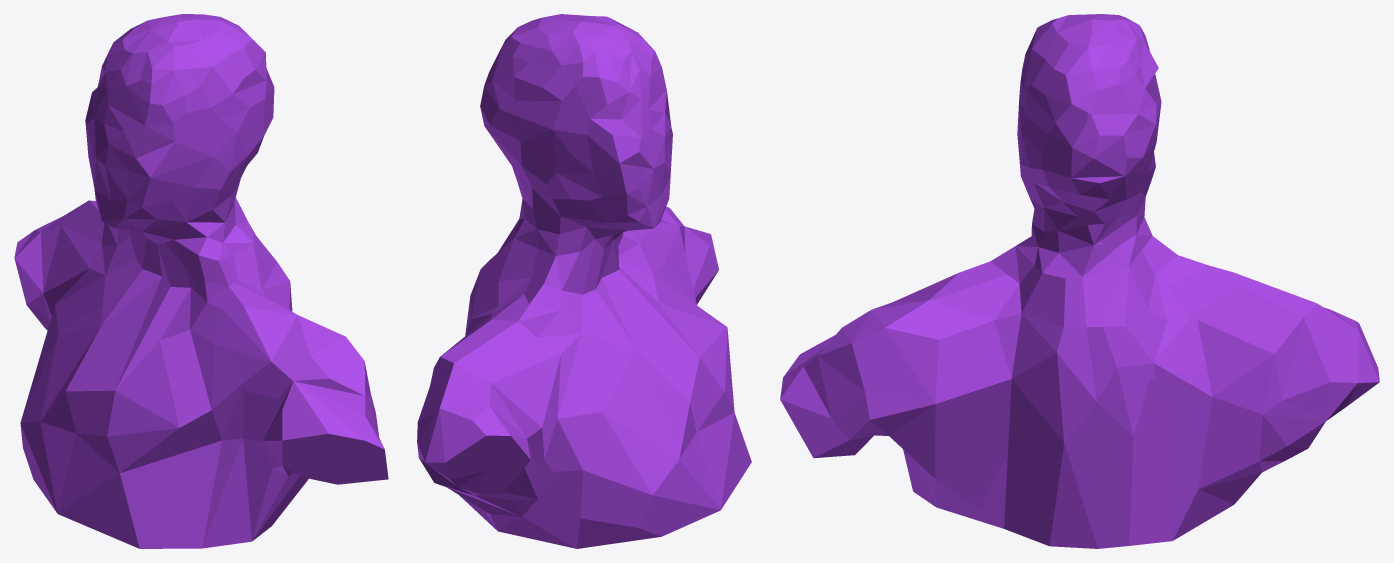
Rendered from Statue_chunks.fbx.
The picture shows the model from 3 angles, left to right: view 1: azimuth 30°, elevation 25°; view 2: azimuth 150°, elevation 25°; view 3: azimuth 270°, elevation 25°; orthographic projection. The views are drawn at different scales.
Visible parts, largest first — view 1: Statue_0, Statue_1, Statue_5, Statue_2, Statue_6; view 2: Statue_0, Statue_2, Statue_1, Statue_6, Statue_5, Statue_4; view 3: Statue_4, Statue_5, Statue_2, Statue_6, Statue_1.
Boxes of the visible parts, x1,y1,x2,y2 form: Statue_0: (14, 180, 236, 548); Statue_1: (91, 16, 354, 442); Statue_5: (234, 293, 388, 543); Statue_2: (15, 14, 237, 256); Statue_6: (230, 197, 292, 311); Statue_0: (449, 197, 751, 548); Statue_2: (417, 23, 646, 481); Statue_1: (516, 14, 718, 274); Statue_6: (466, 194, 523, 334); Statue_5: (685, 253, 716, 304); Statue_4: (419, 320, 496, 529); Statue_4: (974, 360, 1324, 548); Statue_5: (780, 283, 1038, 519); Statue_2: (1083, 15, 1379, 422); Statue_6: (983, 228, 1248, 397); Statue_1: (789, 14, 1114, 368).
Size of the model in its own units: 183 by 342 by 389.
